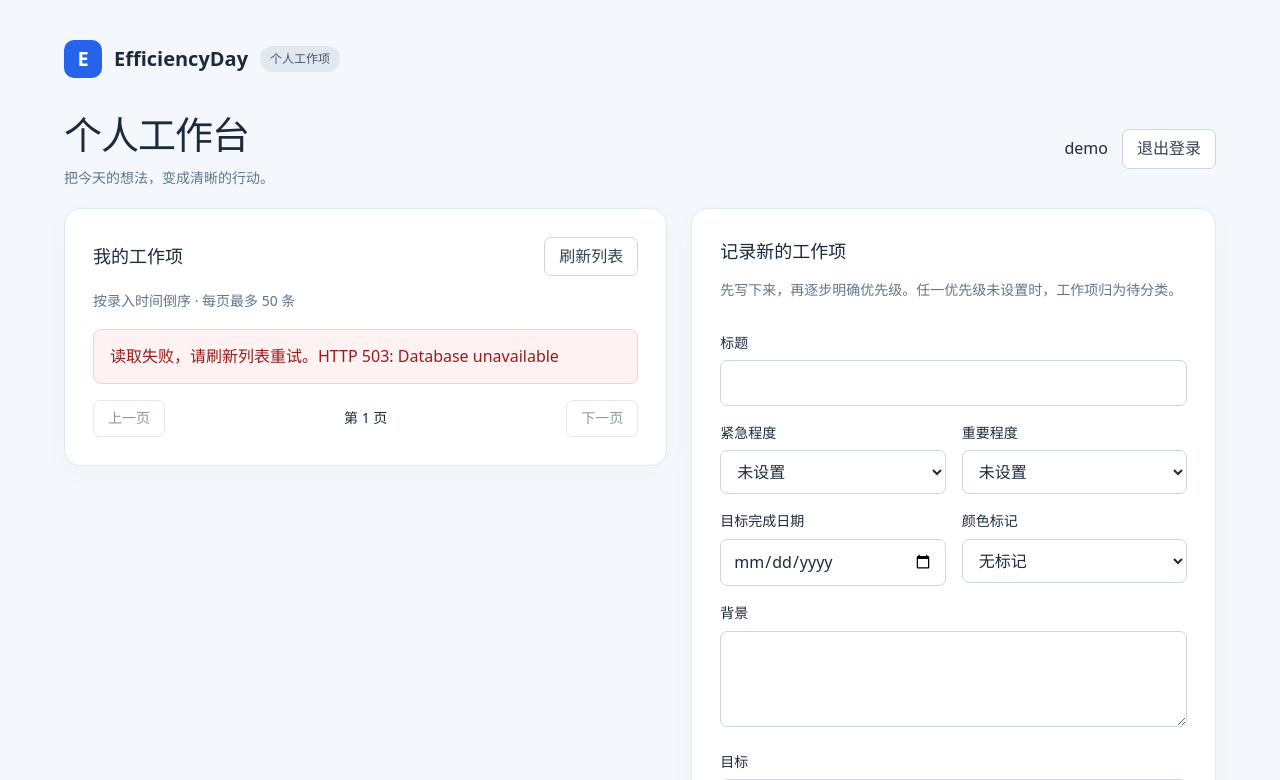
reports list failures rather than claiming the workspace is empty
Expected: the message shows "HTTP 503", [318, 345, 559, 367]
Click the button "刷新列表": (591, 256) [544, 237, 638, 276]
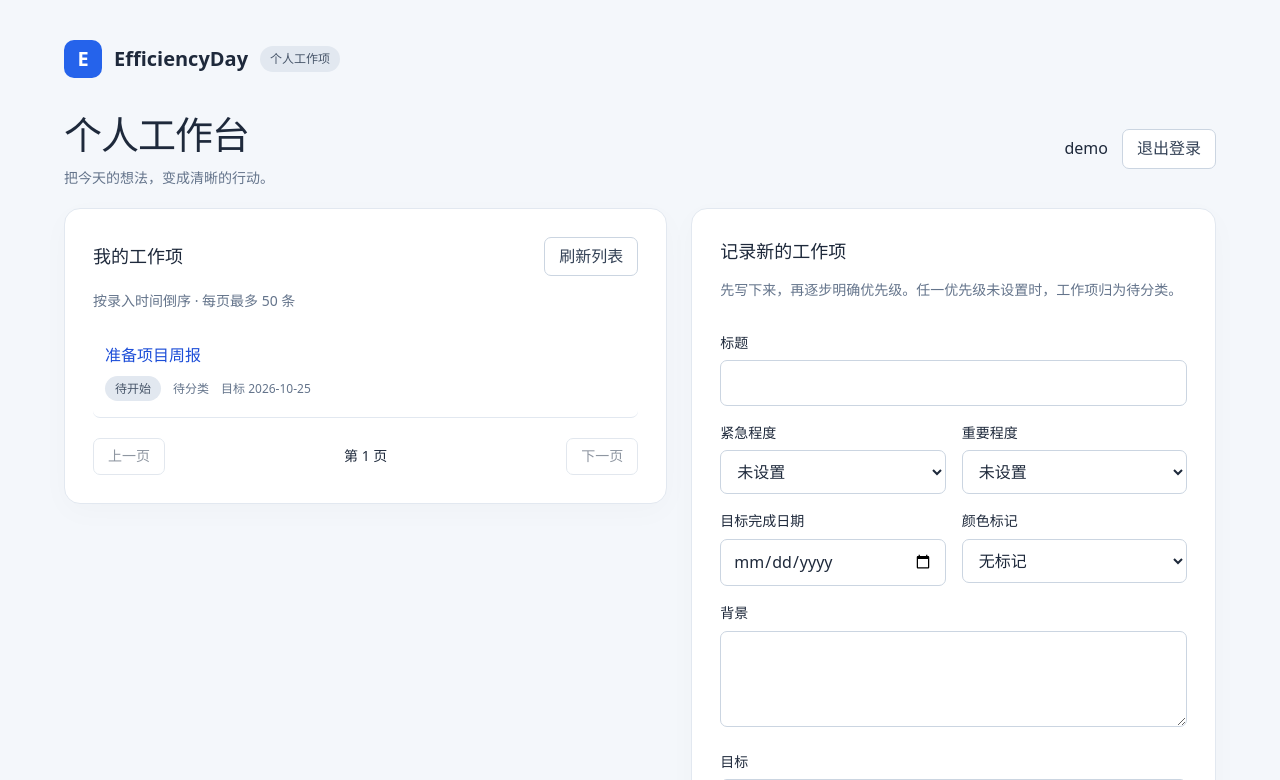
Now the button "准备项目周报" is shown, box [105, 343, 201, 368]
